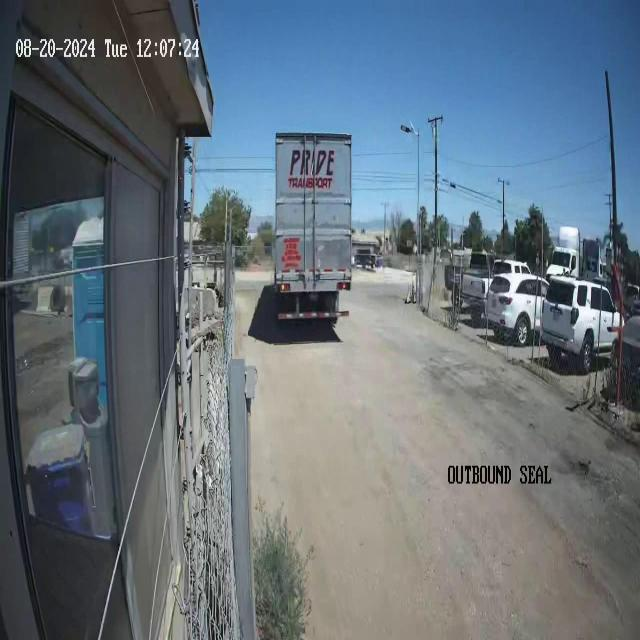TRUCK_CONTAINER: (273, 130, 353, 323)
